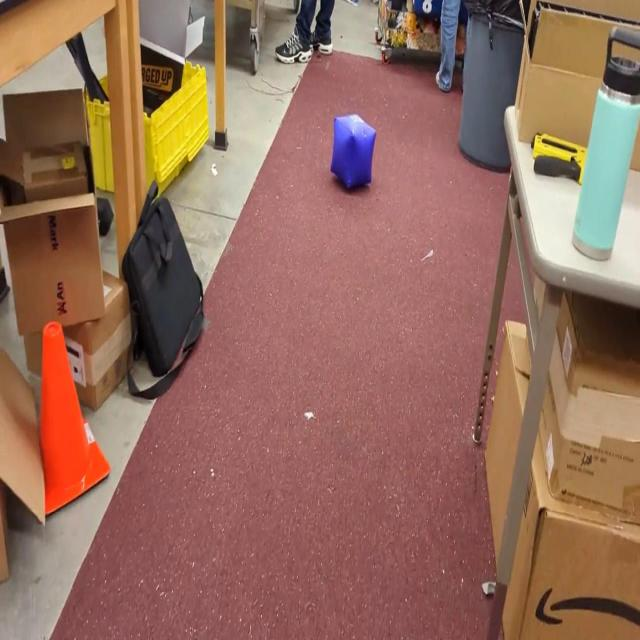frc_cube: (330, 110, 376, 192)
